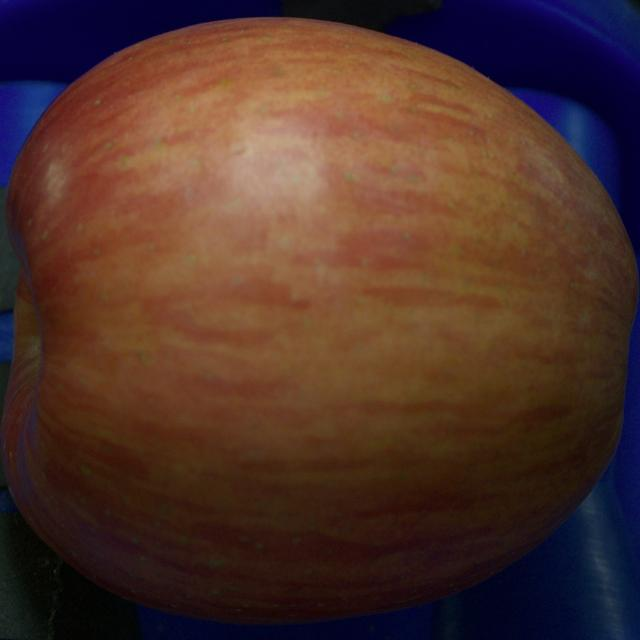apple: (0, 18, 638, 623)
